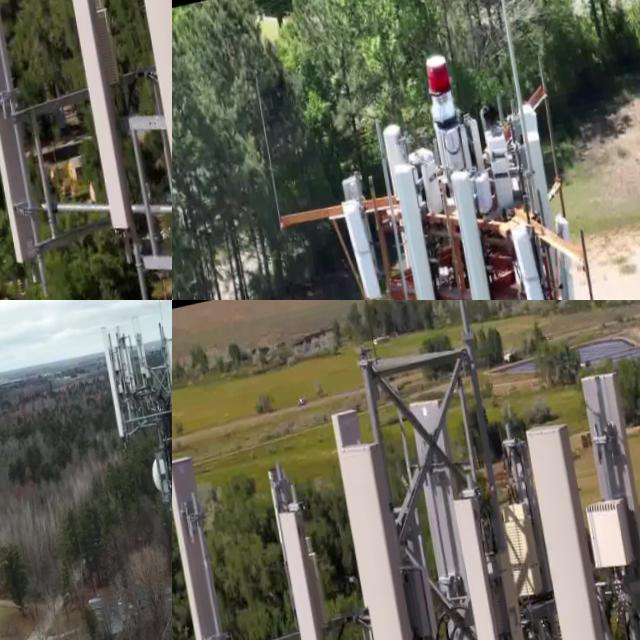GSM Antenna: (515, 408, 640, 640), (329, 418, 453, 640), (399, 391, 480, 640), (59, 0, 136, 243), (574, 359, 640, 640), (172, 439, 254, 640), (118, 0, 172, 300), (0, 0, 44, 280), (273, 497, 349, 640), (386, 162, 445, 300), (442, 167, 499, 300), (337, 196, 387, 300), (95, 321, 131, 452), (504, 230, 553, 300), (116, 0, 172, 61), (541, 224, 583, 300), (125, 324, 157, 412), (158, 338, 172, 433)
Microwave Antenna: (143, 451, 172, 513)
